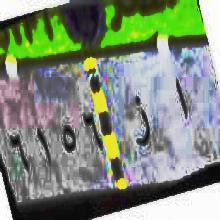1: (8, 128, 30, 184), (36, 113, 53, 177)
5: (60, 109, 80, 165)
6: (81, 112, 105, 158)
alif: (172, 66, 192, 128)
zay: (132, 87, 152, 162)
